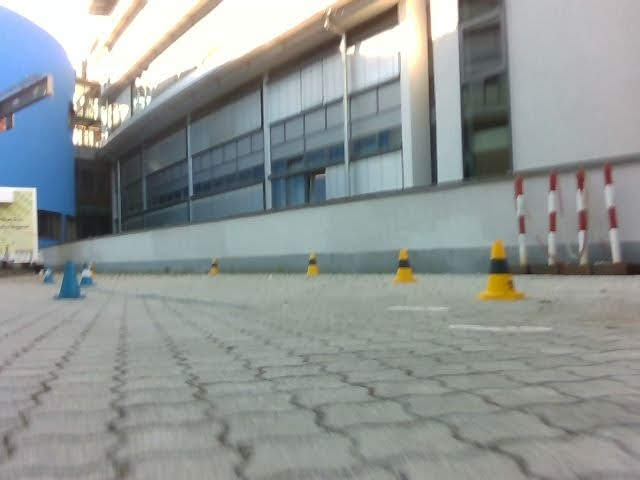cone-blue: (78, 262, 96, 287)
cone-yellow: (481, 239, 522, 300), (392, 248, 418, 283), (305, 252, 322, 277), (209, 257, 220, 275)
